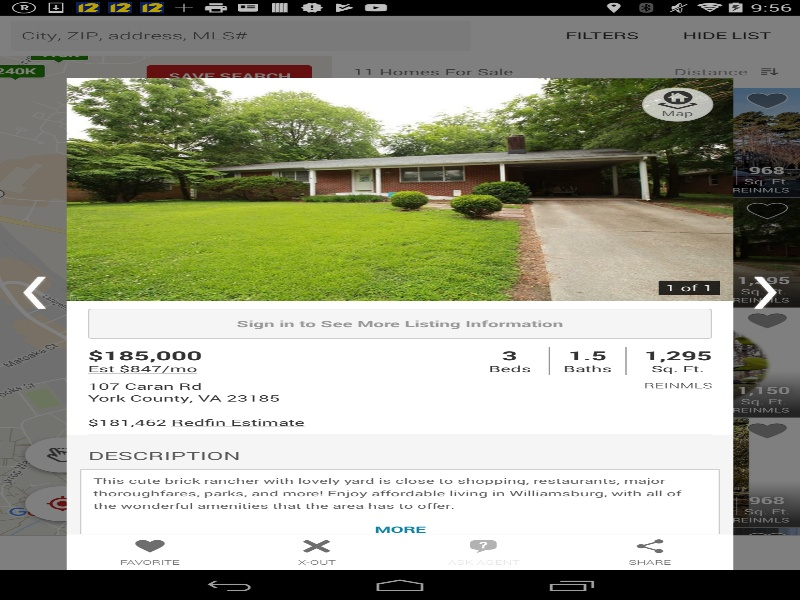Button: (88, 308, 712, 338), (93, 514, 706, 544), (66, 533, 233, 570), (233, 533, 400, 570), (566, 533, 733, 570), (400, 533, 566, 570), (23, 276, 46, 308), (753, 276, 776, 308)
